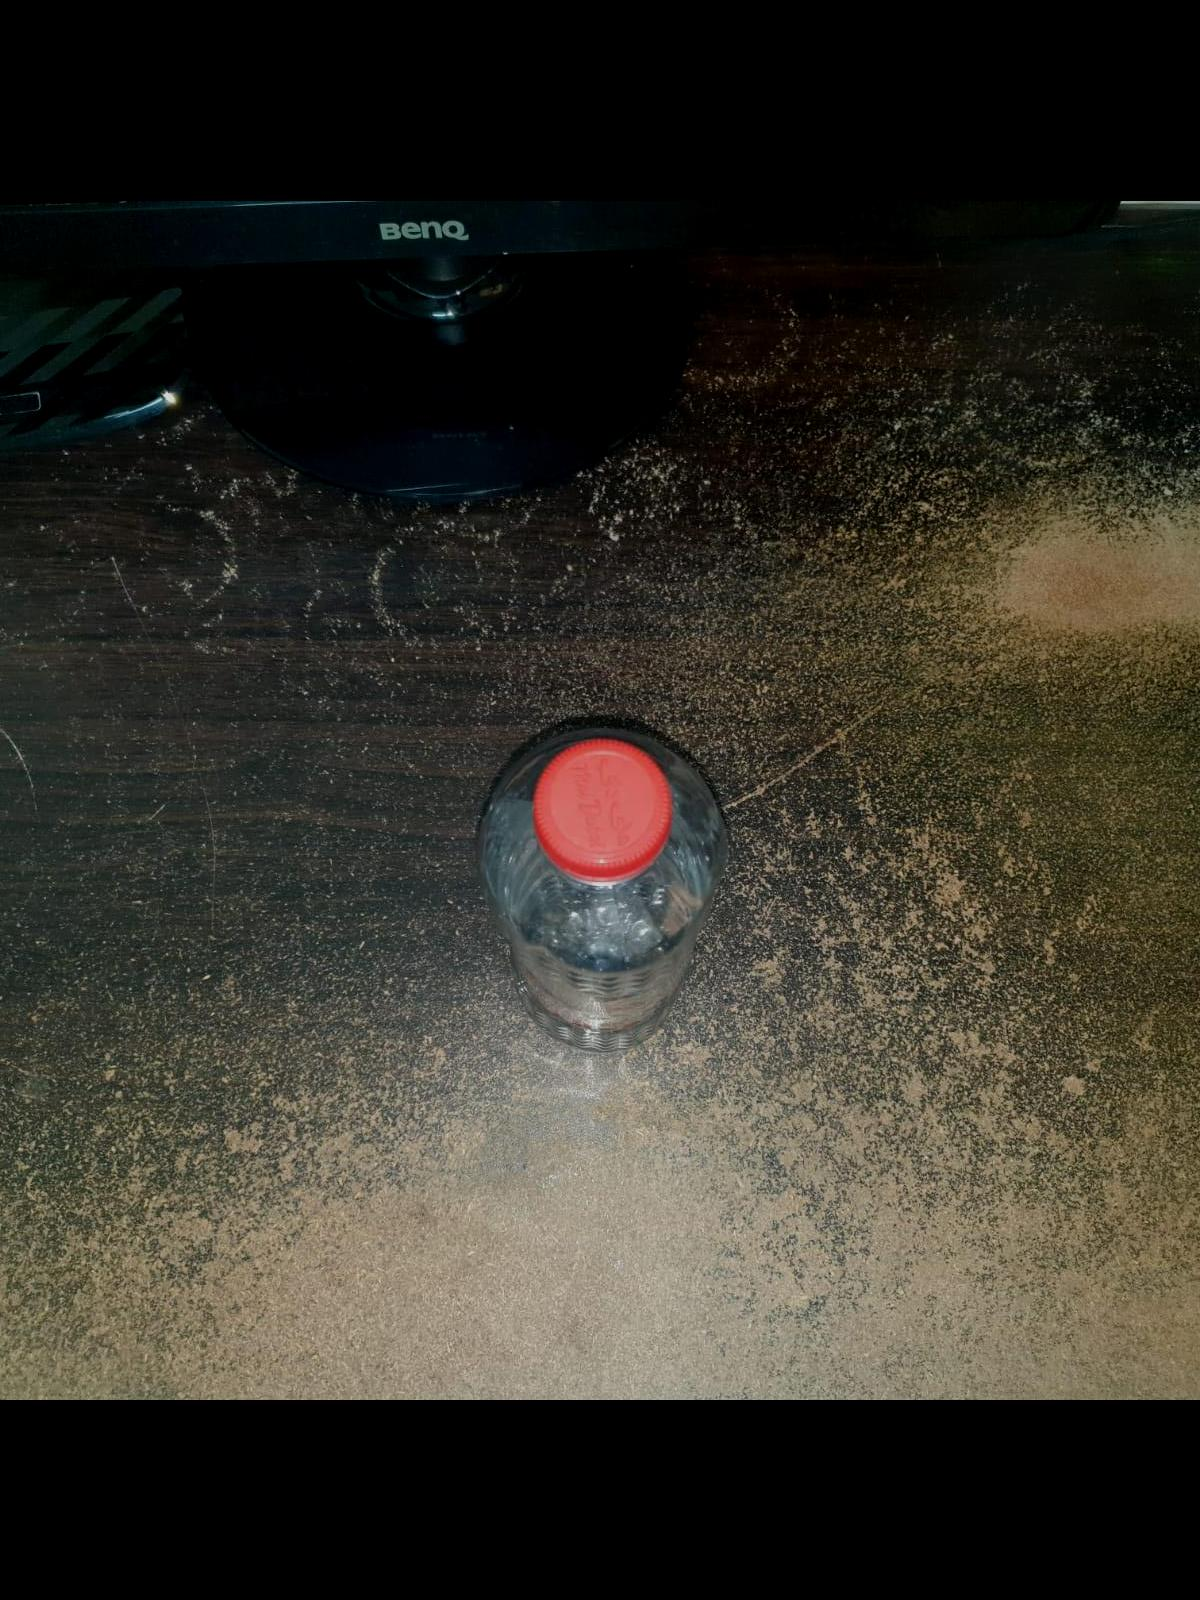bottle: (456, 659, 790, 1060)
